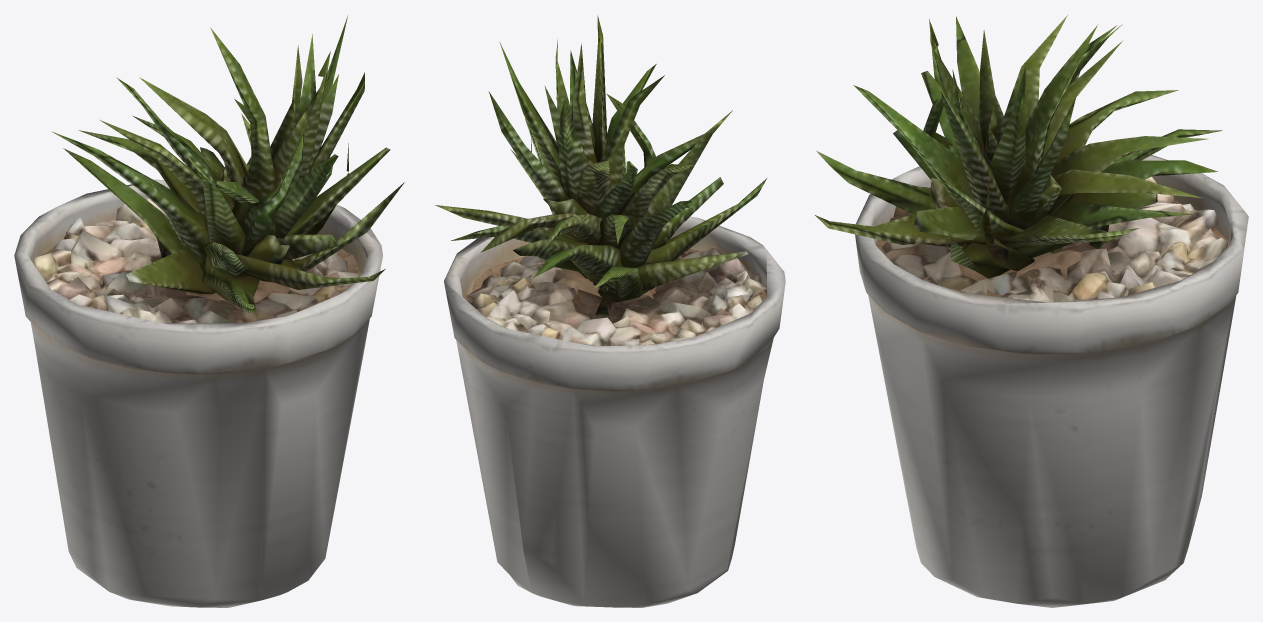
The model's file is plantSmall.glb.
3 views of the same model, side by side, from view 1: azimuth 30°, elevation 25°; view 2: azimuth 150°, elevation 25°; view 3: azimuth 270°, elevation 25° (orthographic). The views are drawn at different scales.
Visible parts, largest first — view 1: potted_plant_04_ground; view 2: potted_plant_04_ground; view 3: potted_plant_04_ground.
Part boxes in pixels (<box>): potted_plant_04_ground: <box>14,16,404,607</box>; potted_plant_04_ground: <box>435,15,785,607</box>; potted_plant_04_ground: <box>815,15,1248,607</box>.
Size of the model in its own units: 0.1664 by 0.2672 by 0.1831.
1 material, 1 textured.
